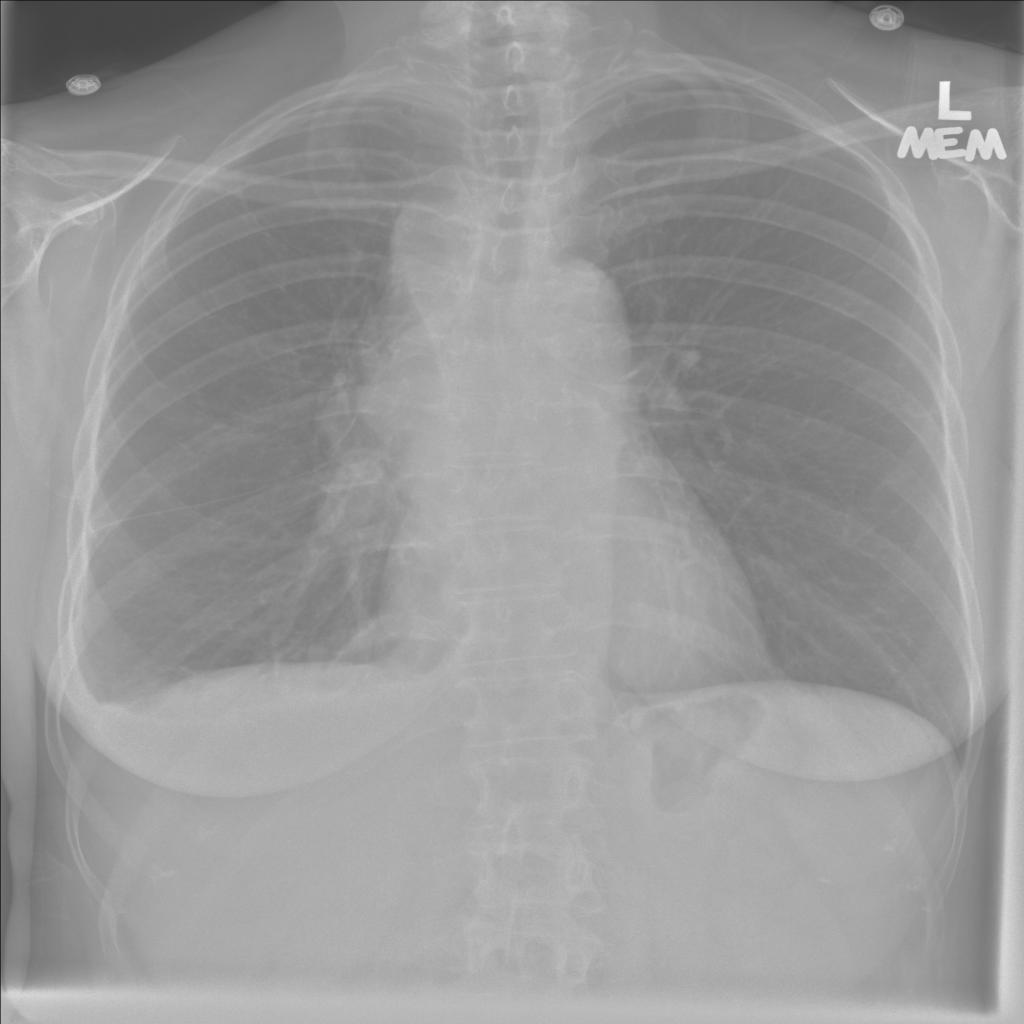Nodule: (40, 284, 76, 327)
